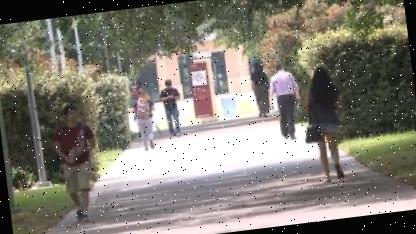person: (43, 99, 110, 228), (294, 62, 352, 188), (262, 58, 308, 146), (122, 78, 162, 157), (155, 76, 188, 141)
